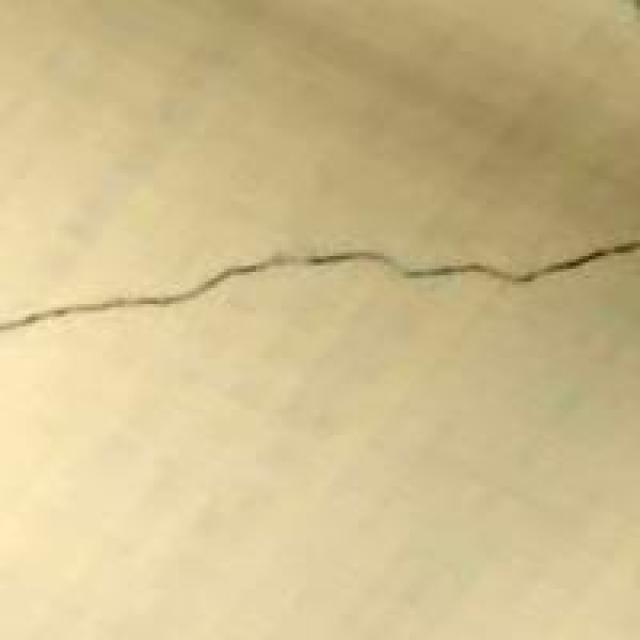crack: (3, 198, 637, 368)
